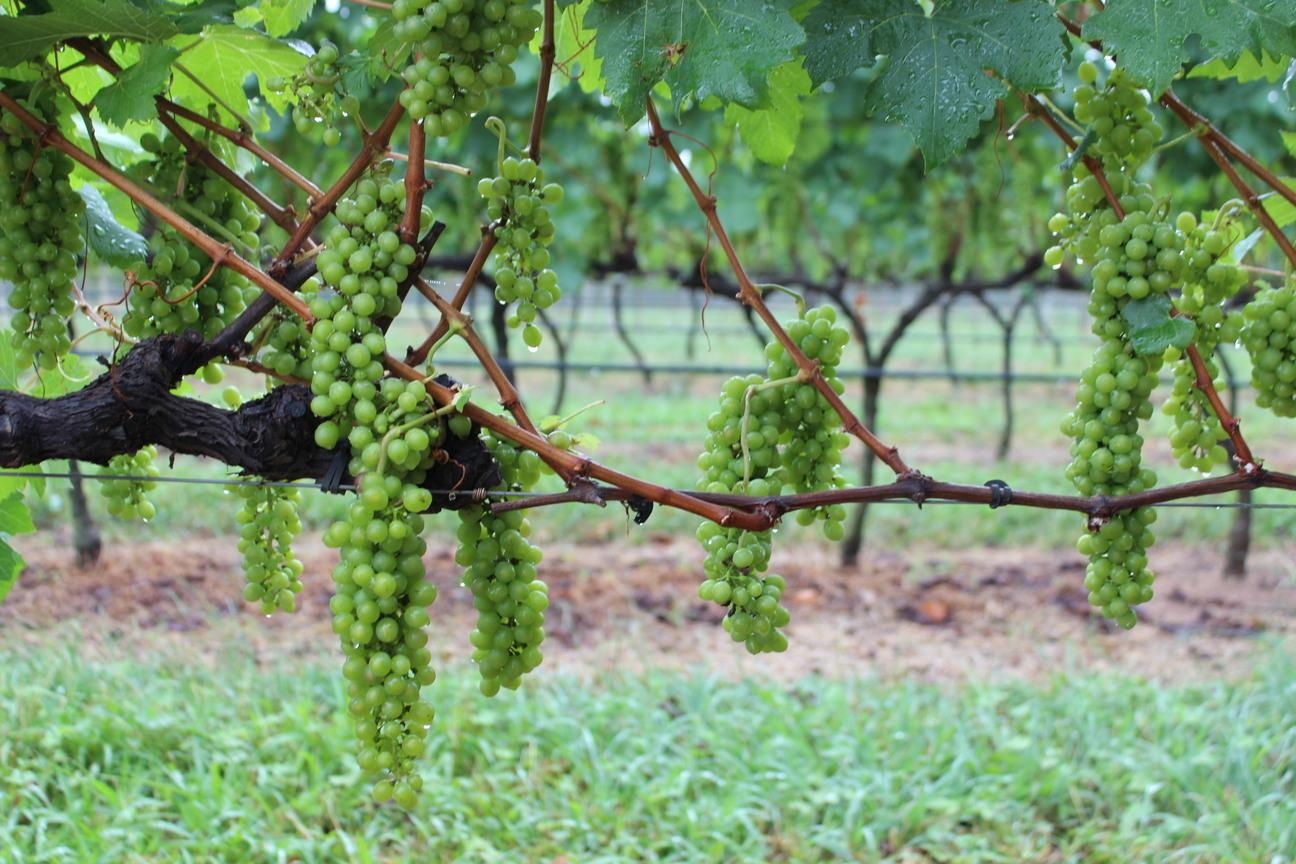leaf: (803, 0, 1064, 167), (584, 0, 803, 124), (1084, 0, 1295, 94), (0, 0, 176, 64), (724, 62, 808, 163), (94, 44, 178, 125), (77, 183, 145, 267), (1121, 294, 1194, 355)
